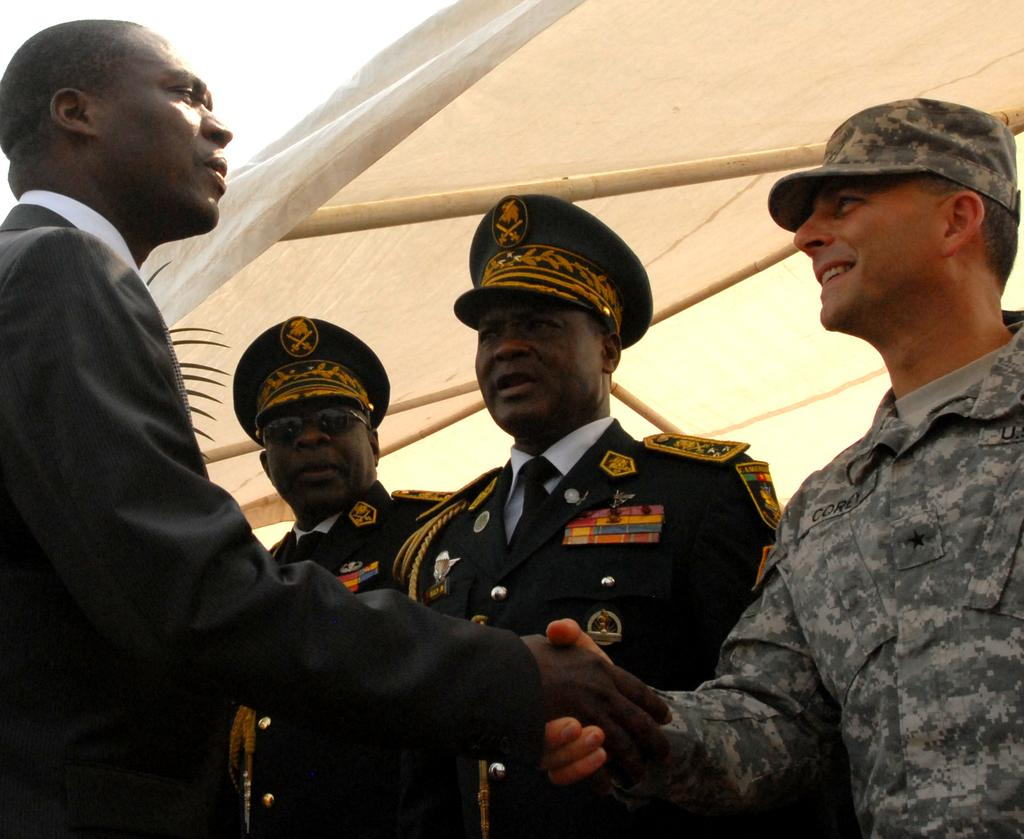Hat: (766, 91, 1018, 234), (448, 193, 652, 331), (230, 312, 391, 452)
